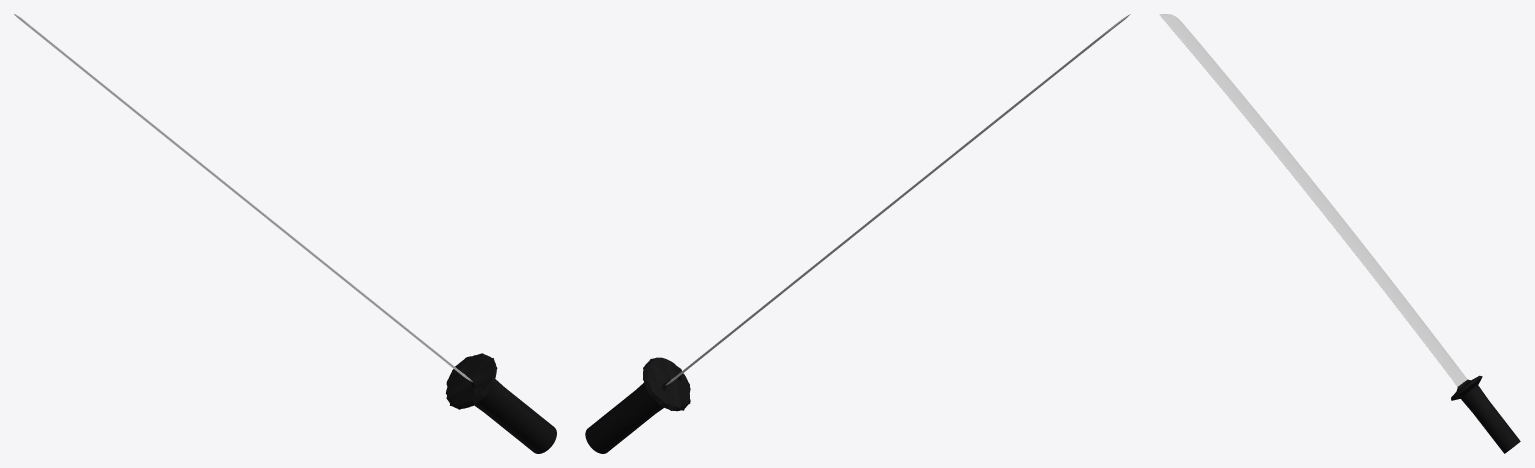
Rendered from KatanaMinecraftBlocking.obj.
3 renders of one model, left to right at view 1: azimuth 30°, elevation 25°; view 2: azimuth 150°, elevation 25°; view 3: azimuth 330°, elevation 25°, orthographic. The views are drawn at different scales.
Visible parts, largest first — view 1: Katana; view 2: Katana; view 3: Katana.
Part boxes in pixels (<box>): Katana: <box>14,14,556,453</box>; Katana: <box>585,14,1130,453</box>; Katana: <box>1159,14,1520,453</box>.
Bounding box in the file's own units: 1.41 × 1.41 × 0.1508.
